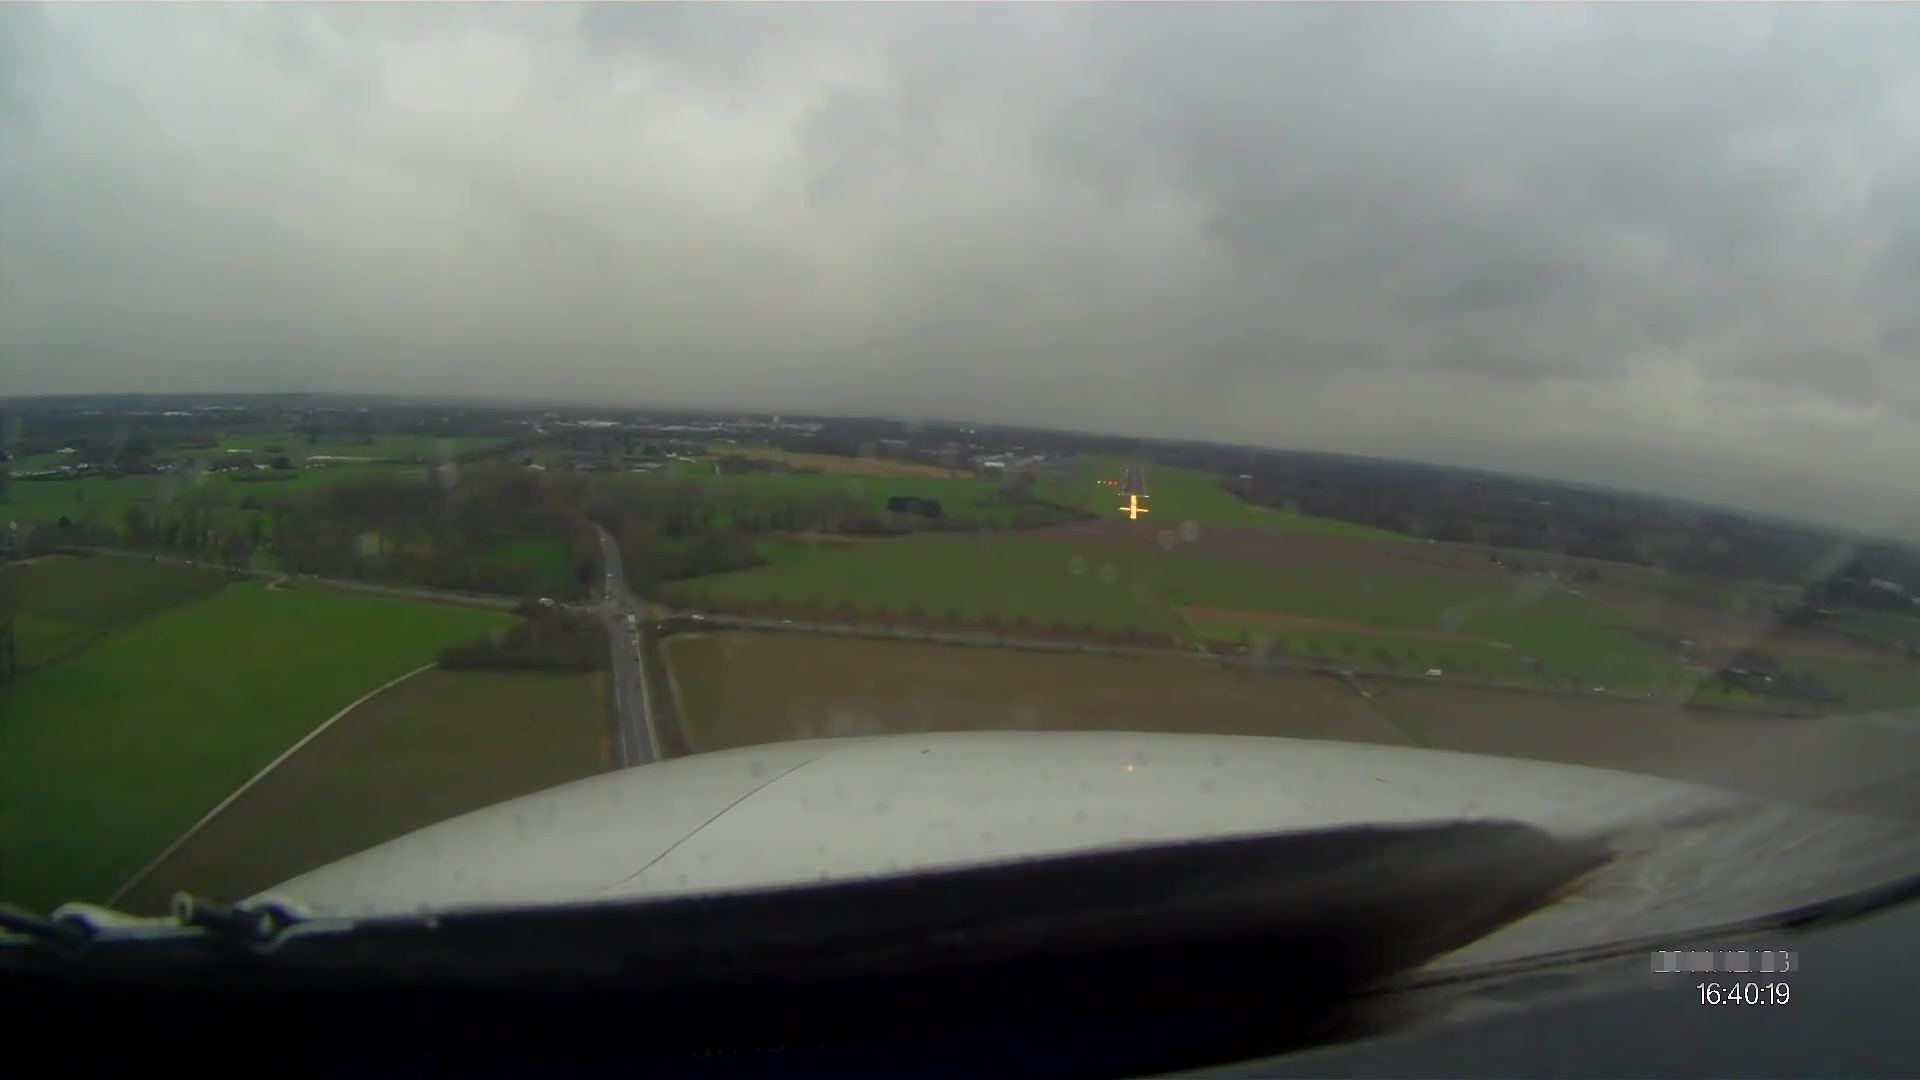runway: (1117, 465, 1149, 498)
